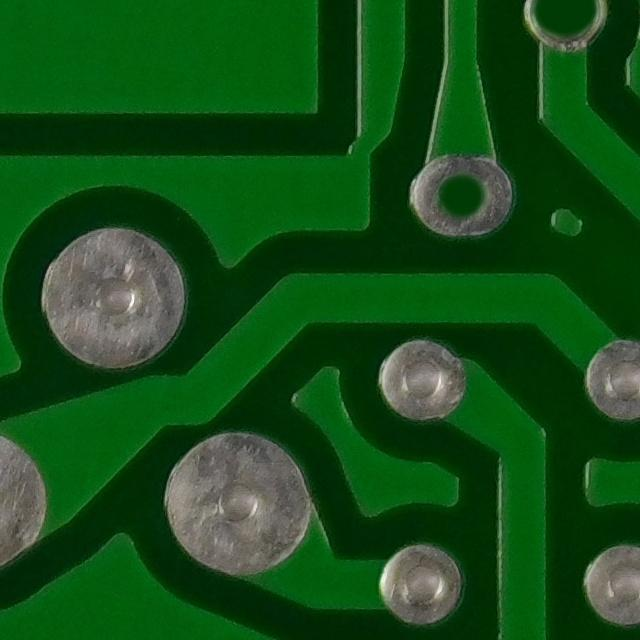missing_hole: (400, 152, 522, 243), (522, 0, 613, 52)
